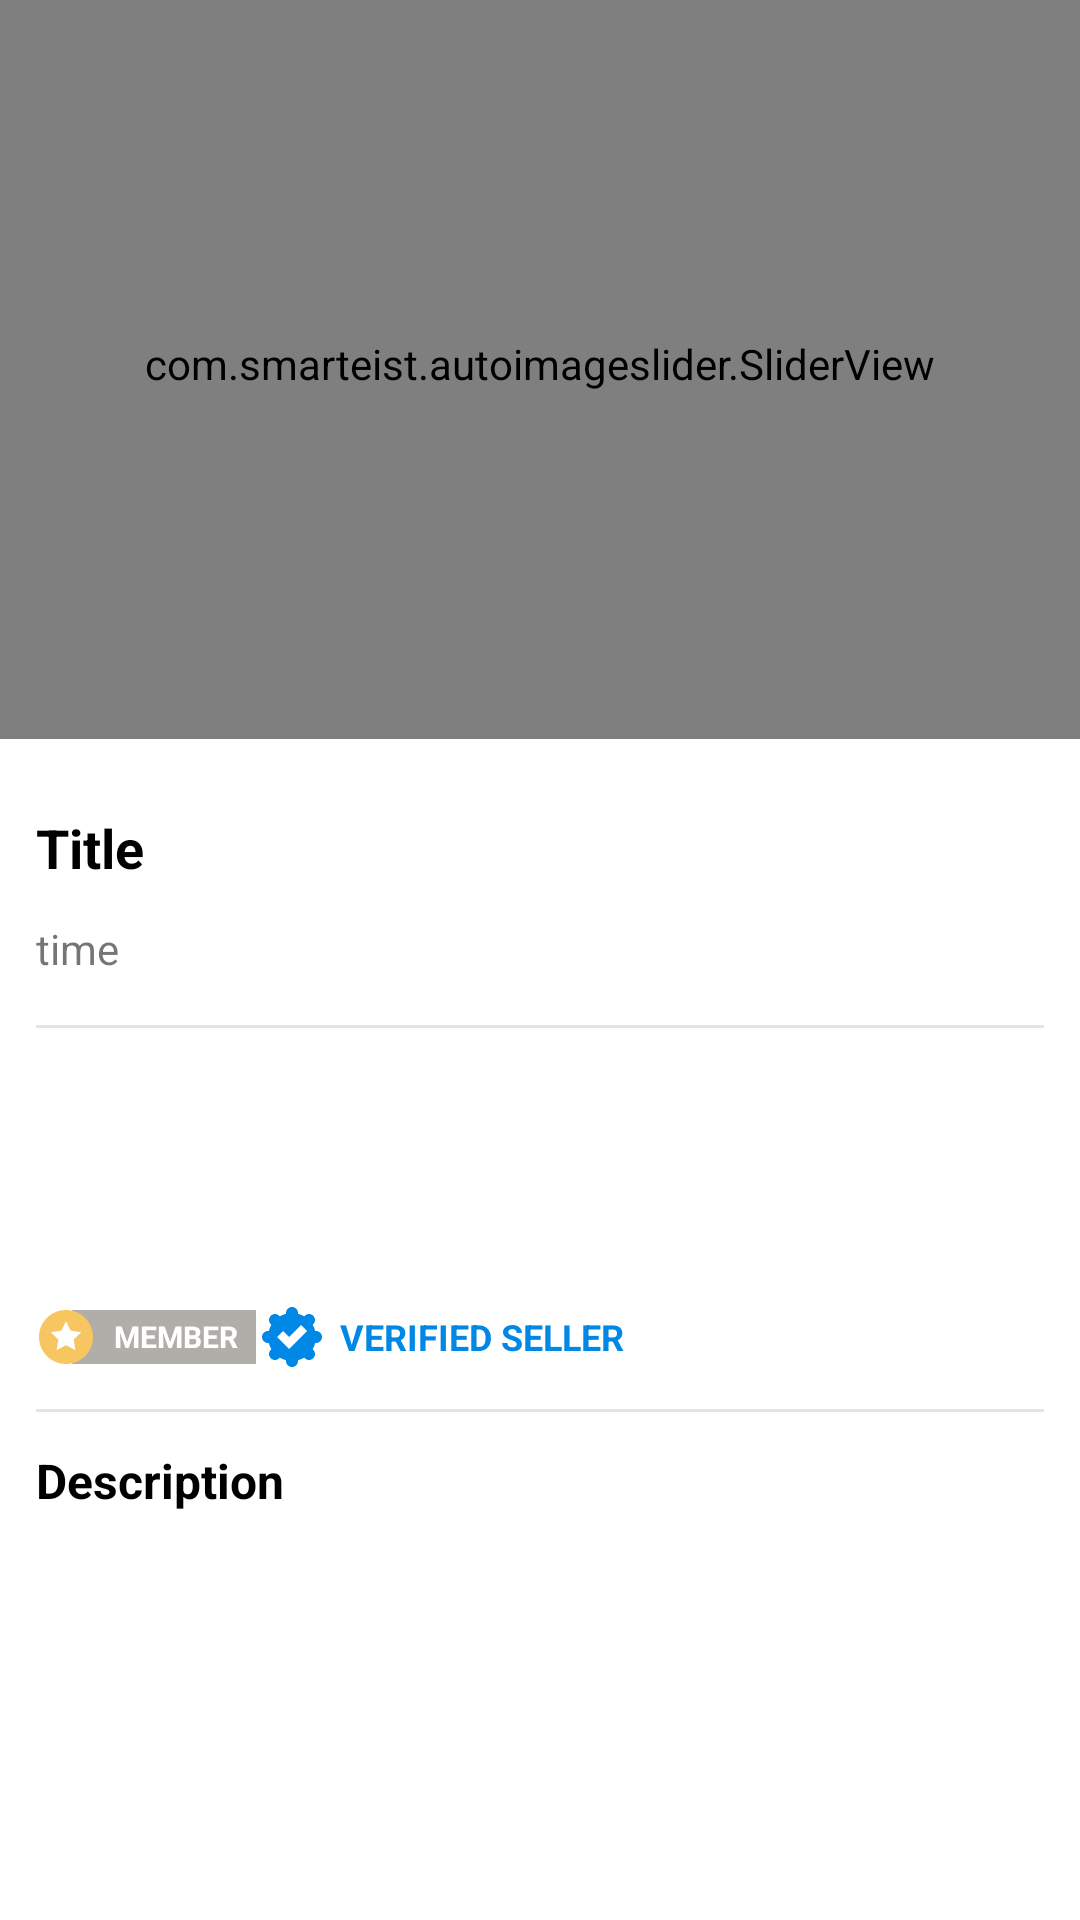

Named icons in this screenshot (1080 x 1920) and their centers, point (x, y):
star: point (67, 1337)
